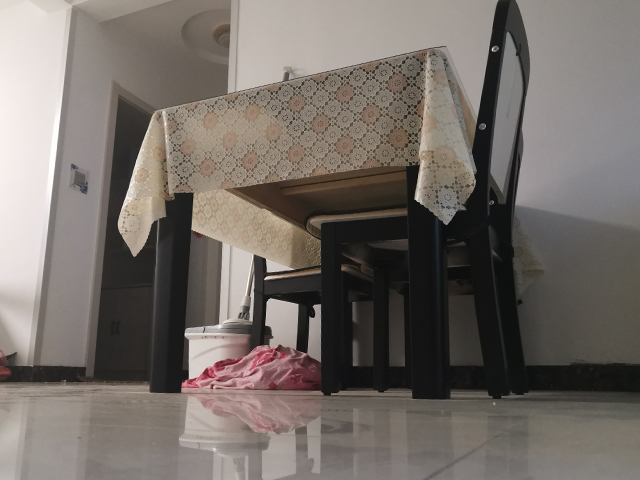cabinet: (93, 284, 162, 379)
stool: (304, 1, 534, 400), (248, 255, 388, 395)
table: (138, 44, 495, 398)
